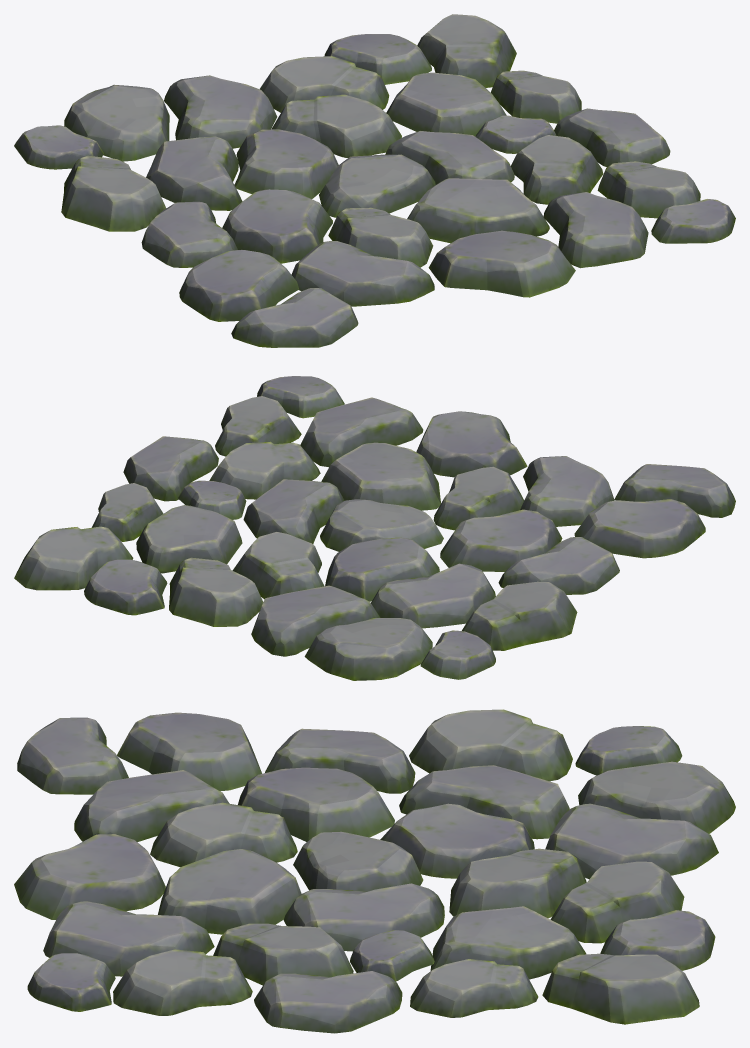
Rendered from RockPath_Round_Wide.glb.
3 renders of one model, top to bottom at view 1: azimuth 30°, elevation 25°; view 2: azimuth 150°, elevation 25°; view 3: azimuth 270°, elevation 25°, orthographic. The views are drawn at different scales.
Visible parts, largest first — view 1: RockPath_Round_Wide; view 2: RockPath_Round_Wide; view 3: RockPath_Round_Wide.
Boxes of the visible parts, x1,y1,x2,y2 form: RockPath_Round_Wide: (14,14,735,347); RockPath_Round_Wide: (14,376,735,680); RockPath_Round_Wide: (14,709,735,1033).
Size of the model in its own units: 2.11 by 0.1128 by 2.13.
Materials: 1 (1 with a texture image).
